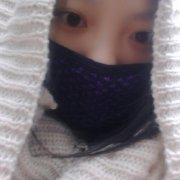WRONG: (40, 5, 162, 127)
